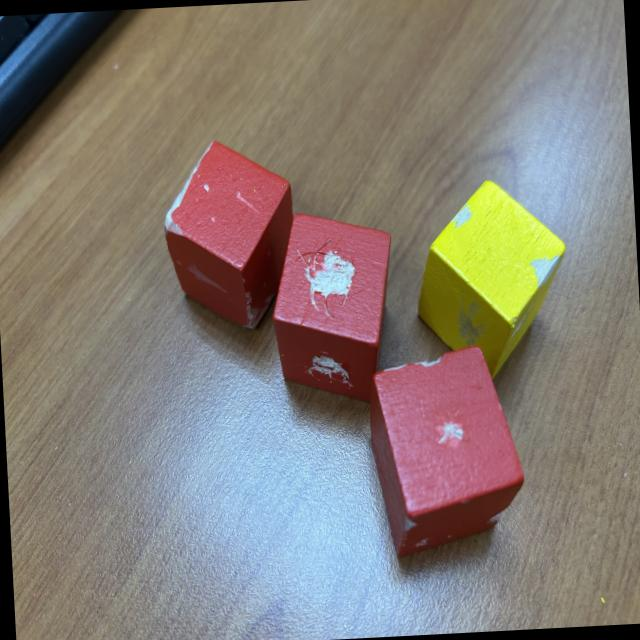broken: (364, 343, 529, 560), (410, 174, 572, 384), (158, 133, 303, 335), (266, 208, 401, 408)
